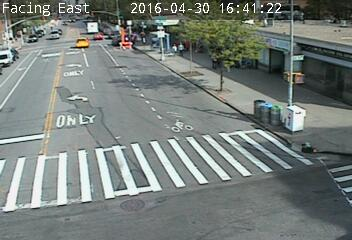neg: (48, 94, 88, 147), (204, 28, 232, 66), (154, 112, 181, 149), (251, 93, 276, 126), (288, 137, 311, 167), (114, 28, 136, 57), (143, 20, 165, 49), (283, 187, 303, 213), (75, 34, 93, 58), (288, 44, 304, 65), (8, 46, 23, 66), (88, 16, 101, 33), (287, 71, 298, 85), (26, 29, 37, 43)
